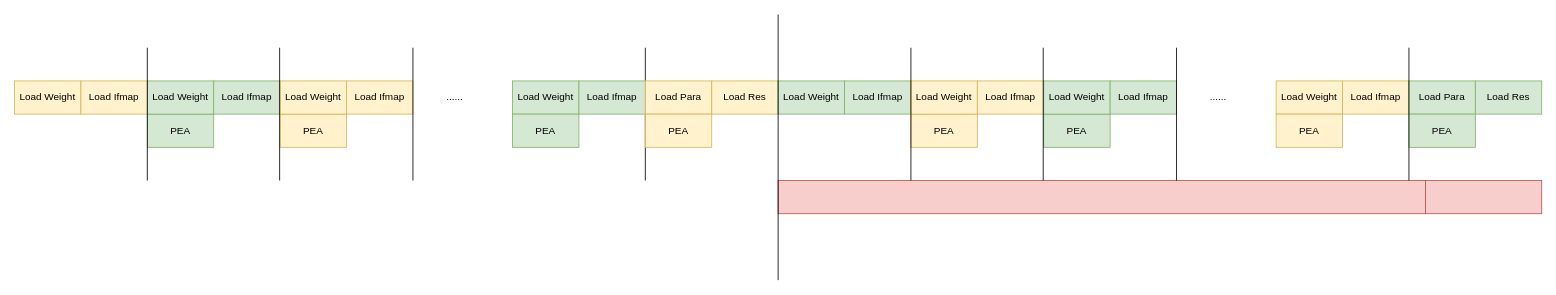
Some shapes in this 1556 by 295 pixel diagram are drawn without their labels. The centre of each missing label's shape, as x and y in pixels:
Store: the point at 1483,197
VCU: the point at 1101,197
